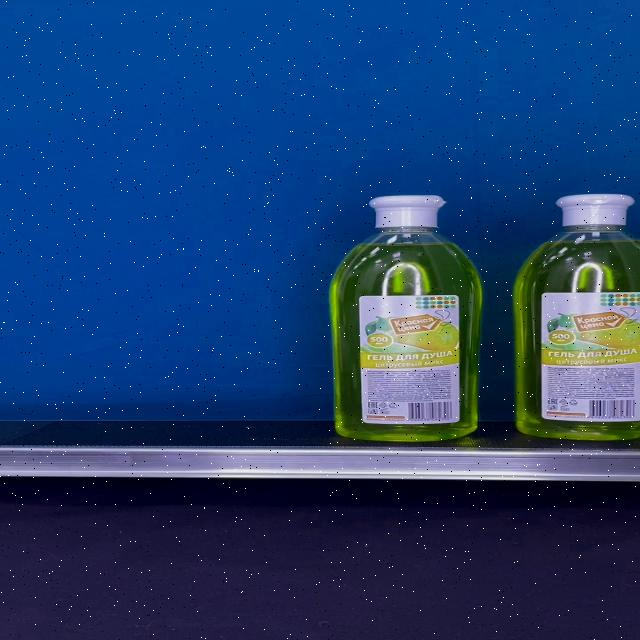Bottle: (331, 195, 484, 442), (514, 194, 640, 440)
Cap: (369, 195, 447, 229), (554, 194, 636, 226)
